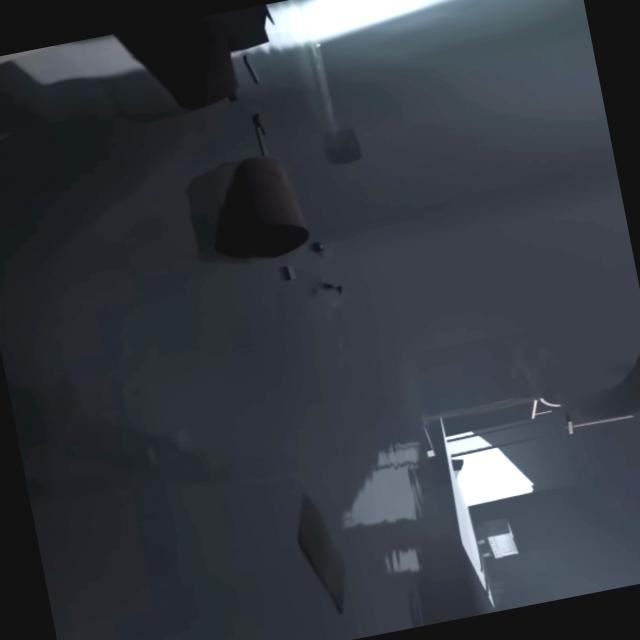boy: (310, 239, 342, 298)
